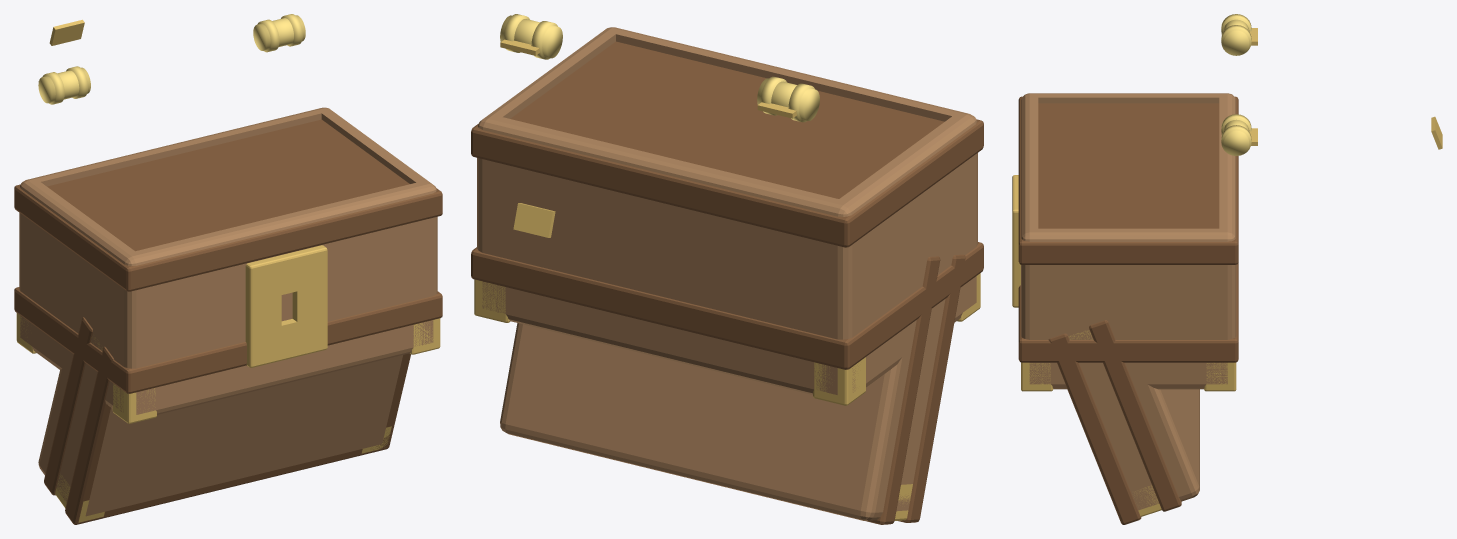
The model's file is stylized_treasure_chest.glb.
3 views of the same model, side by side, from view 1: azimuth 30°, elevation 25°; view 2: azimuth 150°, elevation 25°; view 3: azimuth 270°, elevation 25° (orthographic). The views are drawn at different scales.
Parts seen in each view (by area): view 1: ChestBody, ChestLid, Hinge_-0.55, Hinge_0.55, HingePlateLid_-0.55; view 2: ChestBody, ChestLid, Hinge_-0.55, Hinge_0.55, HingePlateLid_-0.55; view 3: ChestBody, ChestLid, Hinge_0.55, Hinge_-0.55.
Boxes of the visible parts, x1,y1,x2,y2 form: ChestBody: [14, 107, 442, 423]; ChestLid: [38, 315, 410, 524]; Hinge_-0.55: [38, 67, 90, 103]; Hinge_0.55: [253, 15, 305, 50]; HingePlateLid_-0.55: [49, 19, 84, 45]; ChestBody: [471, 27, 983, 405]; ChestLid: [500, 254, 965, 524]; Hinge_-0.55: [757, 78, 819, 120]; Hinge_0.55: [500, 15, 562, 58]; HingePlateLid_-0.55: [513, 203, 555, 237]; ChestBody: [1012, 93, 1238, 391]; ChestLid: [1048, 320, 1199, 524]; Hinge_0.55: [1223, 119, 1249, 155]; Hinge_-0.55: [1223, 19, 1249, 55].
Bounding box in the file's own units: 1.62 × 1.95 × 2.
